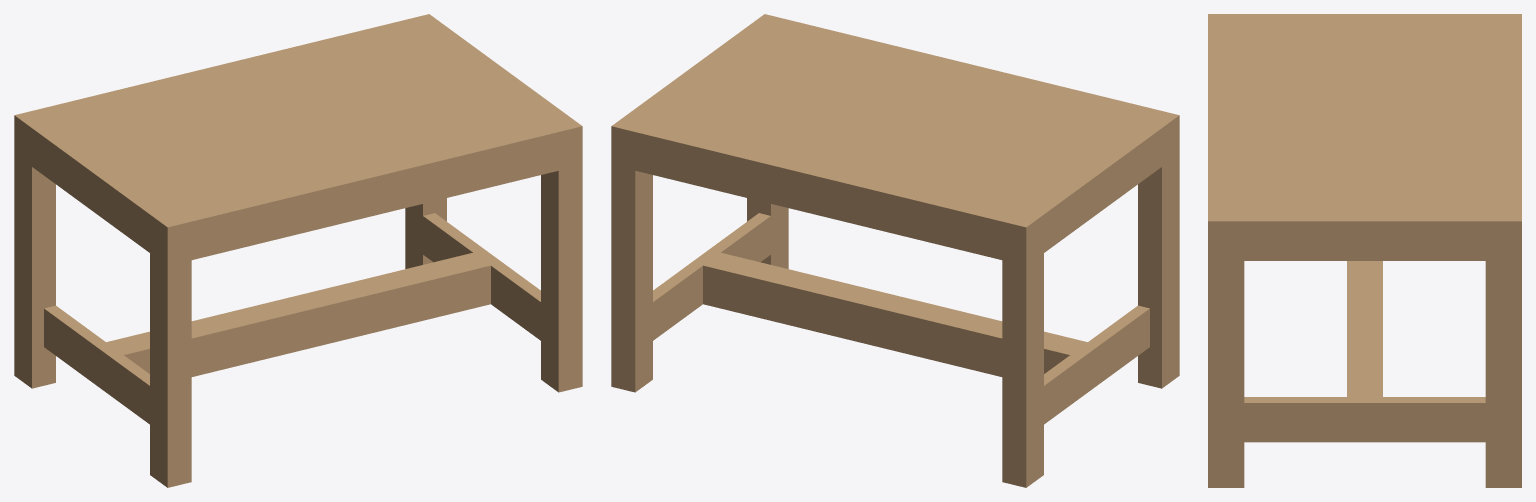
The model's file is table-dining-4.glb.
The picture shows the model from 3 angles, left to right: view 1: azimuth 30°, elevation 25°; view 2: azimuth 150°, elevation 25°; view 3: azimuth 270°, elevation 25°; orthographic projection. The views are drawn at different scales.
Parts seen in each view (by area): view 1: table-dining-4; view 2: table-dining-4; view 3: table-dining-4.
Part boxes in pixels (bbox=[...]): table-dining-4: bbox=[14, 14, 582, 487]; table-dining-4: bbox=[611, 14, 1179, 487]; table-dining-4: bbox=[1208, 14, 1521, 487].
Bounding box in the file's own units: 1.25 × 0.75 × 0.8.
